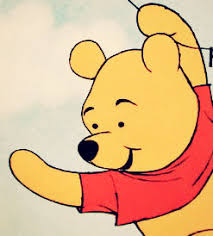Winnie: (54, 29, 207, 215)
